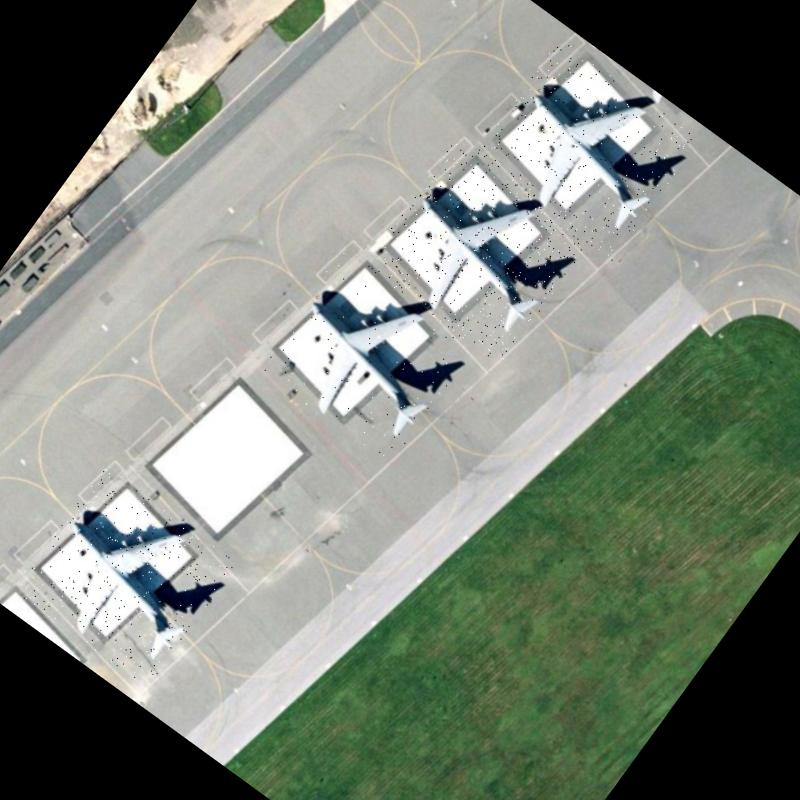A4: (469, 38, 699, 264), (362, 142, 590, 366), (12, 466, 237, 688), (254, 250, 474, 466)
